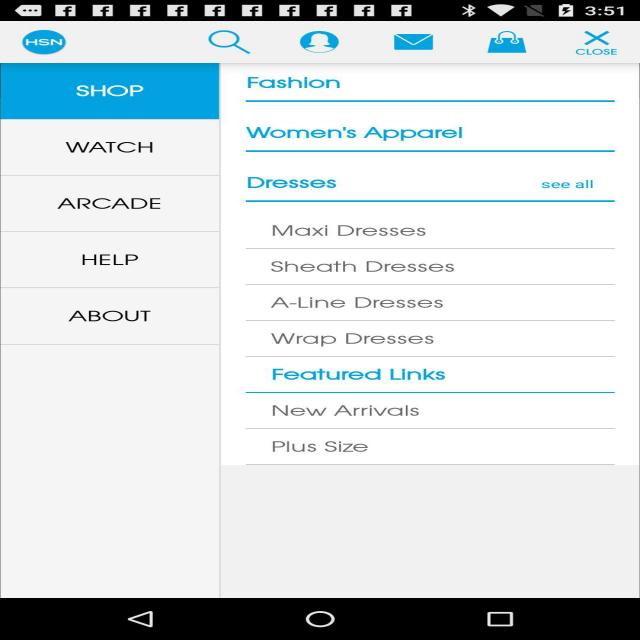text: (259, 79, 570, 462), (31, 79, 240, 349)
